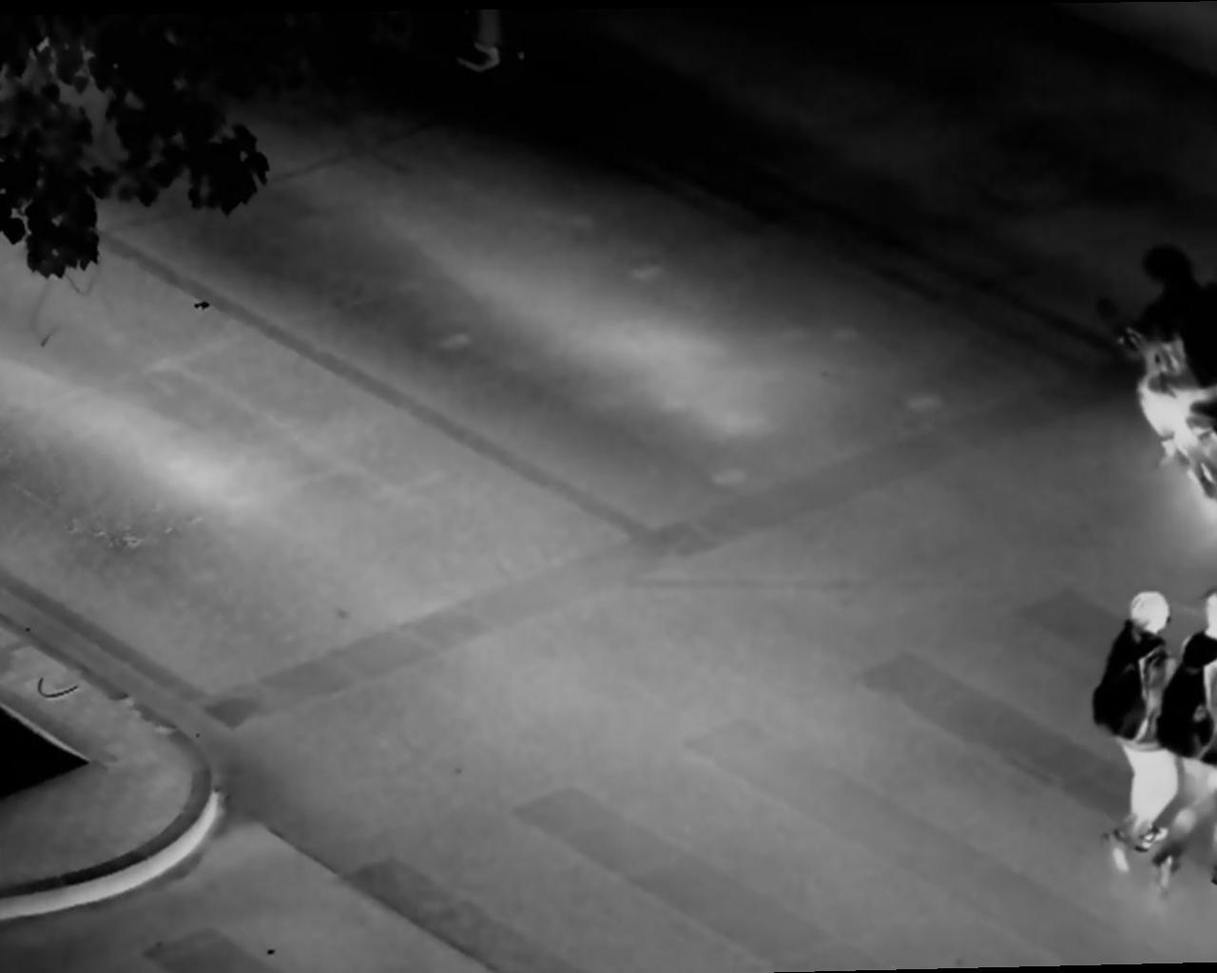person: (1094, 590, 1188, 864), (1175, 585, 1217, 880)
